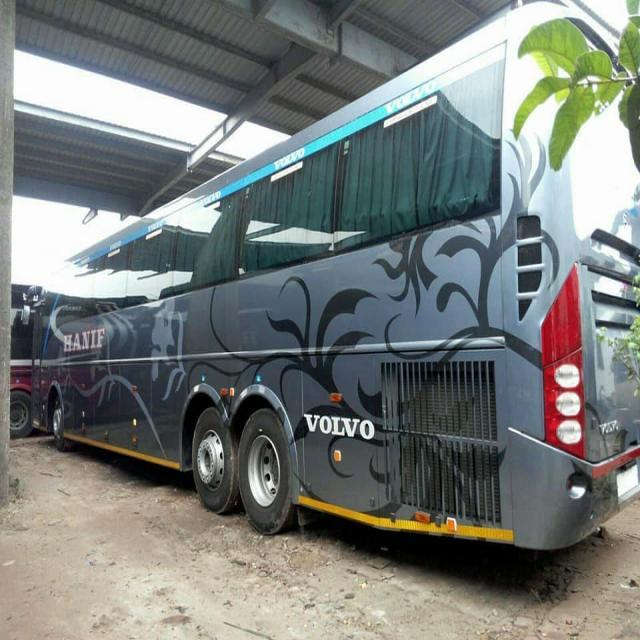bus: (20, 0, 639, 555)
